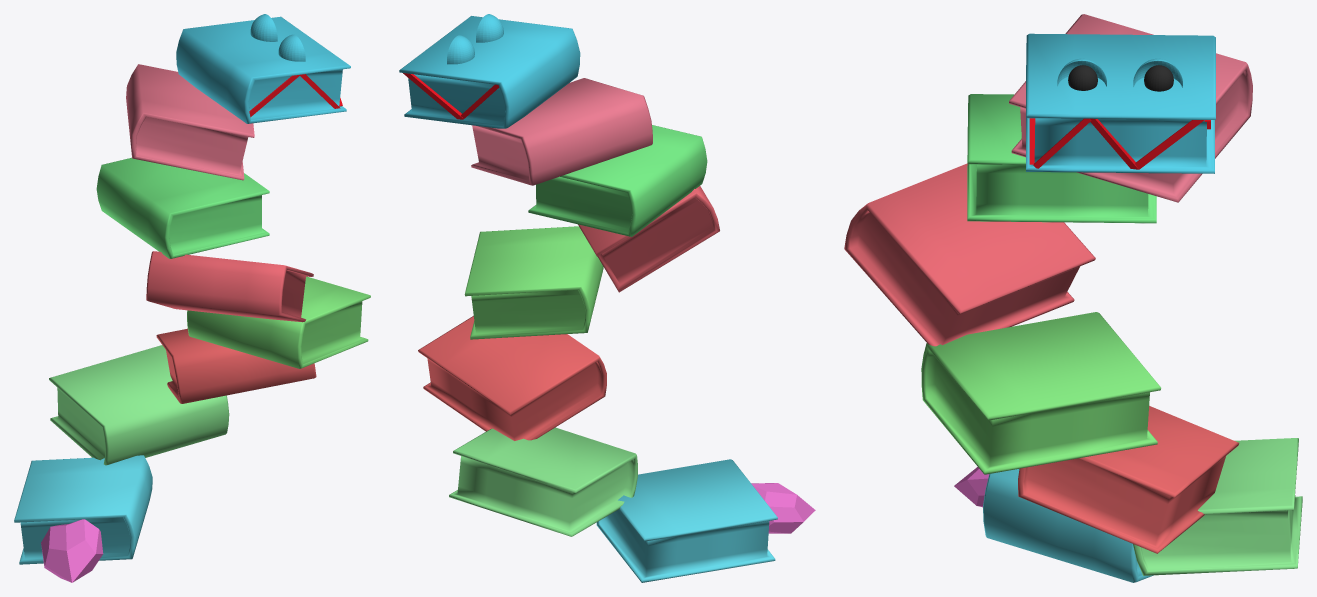
File: ブックスネーク.fbx
3 renders of one model, left to right at view 1: azimuth 30°, elevation 25°; view 2: azimuth 150°, elevation 25°; view 3: azimuth 270°, elevation 25°, orthographic. The views are drawn at different scales.
Parts seen in each view (by area): view 1: 円柱.007, 円柱.002, 円柱.001, 円柱.008, 円柱.004, 円柱.003, 円柱.005, 円柱.006, 円錐, 球, 立方体.006; view 2: 円柱.008, 円柱.006, 円柱.007, 円柱.005, 円柱.001, 円柱.004, 円柱.002, 円柱.003, 円錐, 球, 立方体.006; view 3: 円柱.005, 円柱.003, 円柱.001, 円柱.006, 円柱.007, 円柱.002, 円柱.008, 円柱.004, 立方体.006, 球.002, 球, 円錐.
Part boxes in pixels (x1=…): 円柱.007: x1=49, y1=345, x2=229, y2=465; 円柱.002: x1=96, y1=157, x2=269, y2=258; 円柱.001: x1=176, y1=16, x2=350, y2=123; 円柱.008: x1=14, y1=455, x2=152, y2=564; 円柱.004: x1=126, y1=64, x2=254, y2=180; 円柱.003: x1=146, y1=251, x2=313, y2=322; 円柱.005: x1=187, y1=276, x2=370, y2=368; 円柱.006: x1=156, y1=328, x2=316, y2=403; 円錐: x1=41, y1=519, x2=103, y2=582; 球: x1=250, y1=14, x2=305, y2=61; 立方体.006: x1=249, y1=74, x2=342, y2=117; 円柱.008: x1=596, y1=459, x2=777, y2=582; 円柱.006: x1=418, y1=316, x2=606, y2=440; 円柱.007: x1=449, y1=427, x2=637, y2=536; 円柱.005: x1=464, y1=226, x2=603, y2=339; 円柱.001: x1=399, y1=16, x2=580, y2=128; 円柱.004: x1=471, y1=78, x2=652, y2=185; 円柱.002: x1=528, y1=125, x2=707, y2=236; 円柱.003: x1=578, y1=186, x2=719, y2=292; 円錐: x1=751, y1=483, x2=815, y2=533; 球: x1=447, y1=14, x2=503, y2=64; 立方体.006: x1=403, y1=73, x2=499, y2=119; 円柱.005: x1=921, y1=312, x2=1161, y2=474; 円柱.003: x1=844, y1=163, x2=1095, y2=346; 円柱.001: x1=1026, y1=33, x2=1215, y2=173; 円柱.006: x1=1018, y1=406, x2=1239, y2=553; 円柱.007: x1=1133, y1=438, x2=1302, y2=575; 円柱.002: x1=967, y1=94, x2=1156, y2=223; 円柱.008: x1=983, y1=469, x2=1153, y2=582; 円柱.004: x1=1009, y1=14, x2=1252, y2=202; 立方体.006: x1=1029, y1=118, x2=1210, y2=169; 球.002: x1=1068, y1=65, x2=1173, y2=91; 球: x1=1057, y1=58, x2=1182, y2=87; 円錐: x1=954, y1=467, x2=989, y2=507.
Size of the model in its own units: 827 by 1130 by 752.
